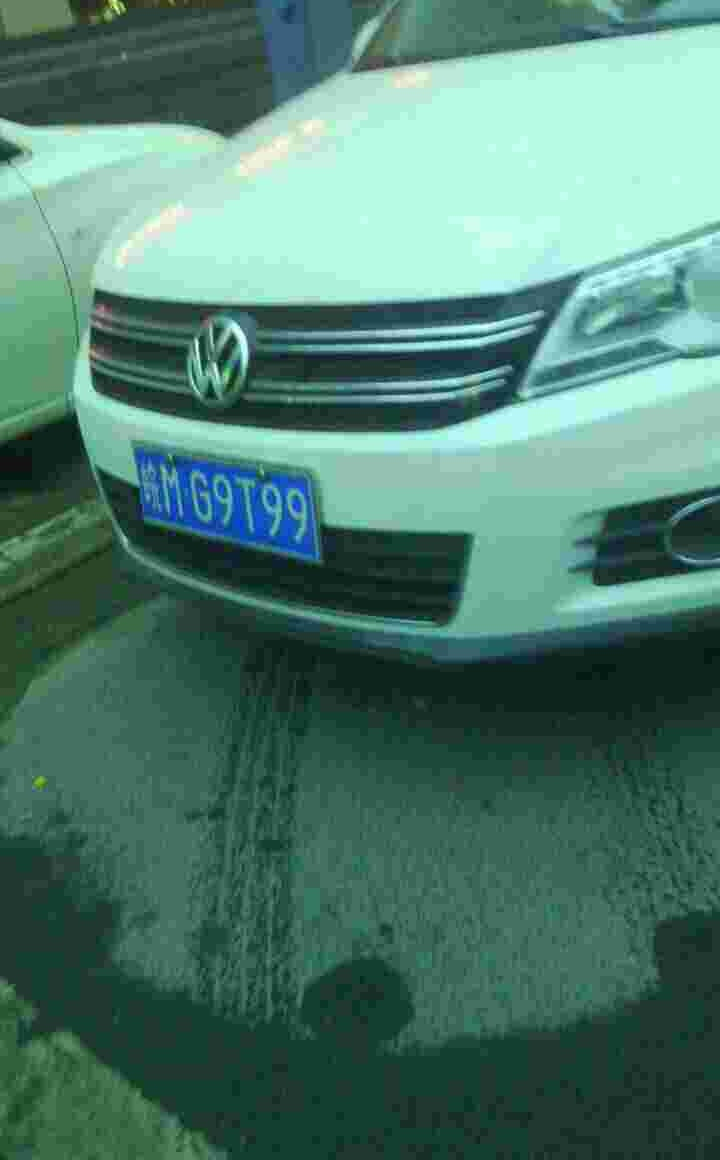car: (124, 440, 333, 555)
